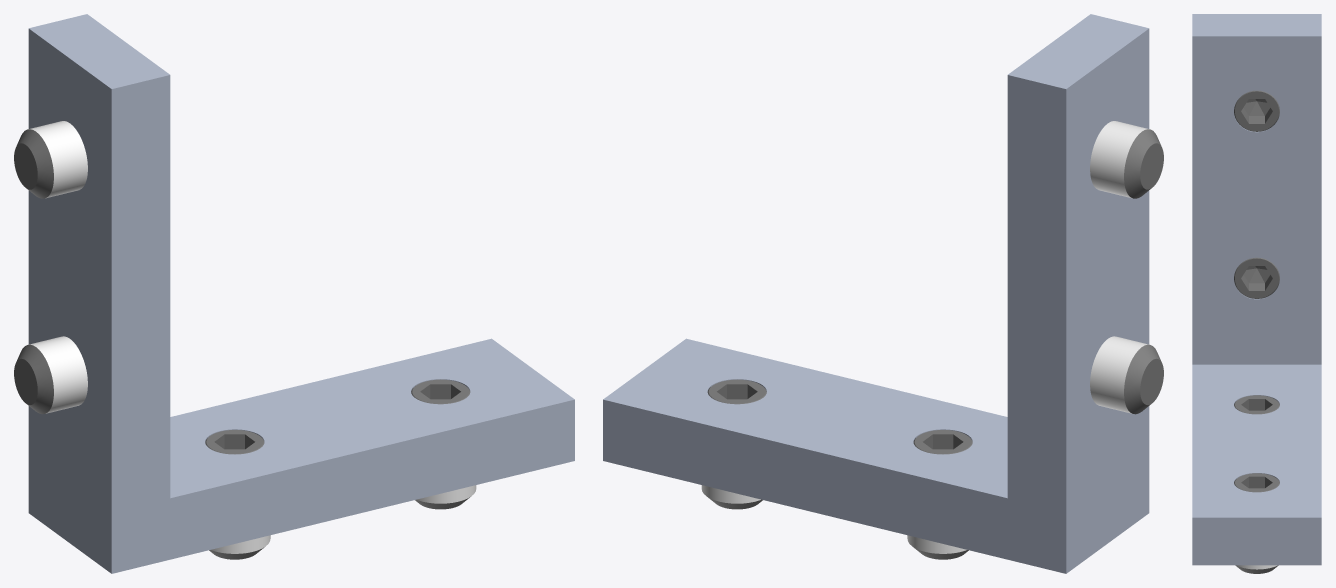
Rendered from TPFR-TPFR-408-K14-ZP.glb.
3 views of the same model, side by side, from view 1: azimuth 30°, elevation 25°; view 2: azimuth 150°, elevation 25°; view 3: azimuth 270°, elevation 25° (orthographic). The views are drawn at different scales.
Parts seen in each view (by area): view 1: NAUO1, NAUO5, NAUO4, NAUO2, NAUO3; view 2: NAUO1, NAUO5, NAUO4, NAUO2, NAUO3; view 3: NAUO1, NAUO4, NAUO5, NAUO3, NAUO2.
Boxes of the visible parts, <box> form: NAUO1: <box>28,14,574,573</box>; NAUO5: <box>14,121,87,198</box>; NAUO4: <box>14,336,87,414</box>; NAUO2: <box>205,430,270,559</box>; NAUO3: <box>411,379,476,509</box>; NAUO1: <box>603,14,1149,573</box>; NAUO5: <box>1090,121,1163,198</box>; NAUO4: <box>1090,336,1163,414</box>; NAUO2: <box>907,430,972,559</box>; NAUO3: <box>701,379,766,509</box>; NAUO1: <box>1192,14,1321,565</box>; NAUO4: <box>1234,257,1279,298</box>; NAUO5: <box>1234,90,1279,131</box>; NAUO3: <box>1234,473,1279,573</box>; NAUO2: <box>1234,395,1279,414</box>.
Bounding box in the file's own units: 0.0493 × 0.0493 × 0.014.
